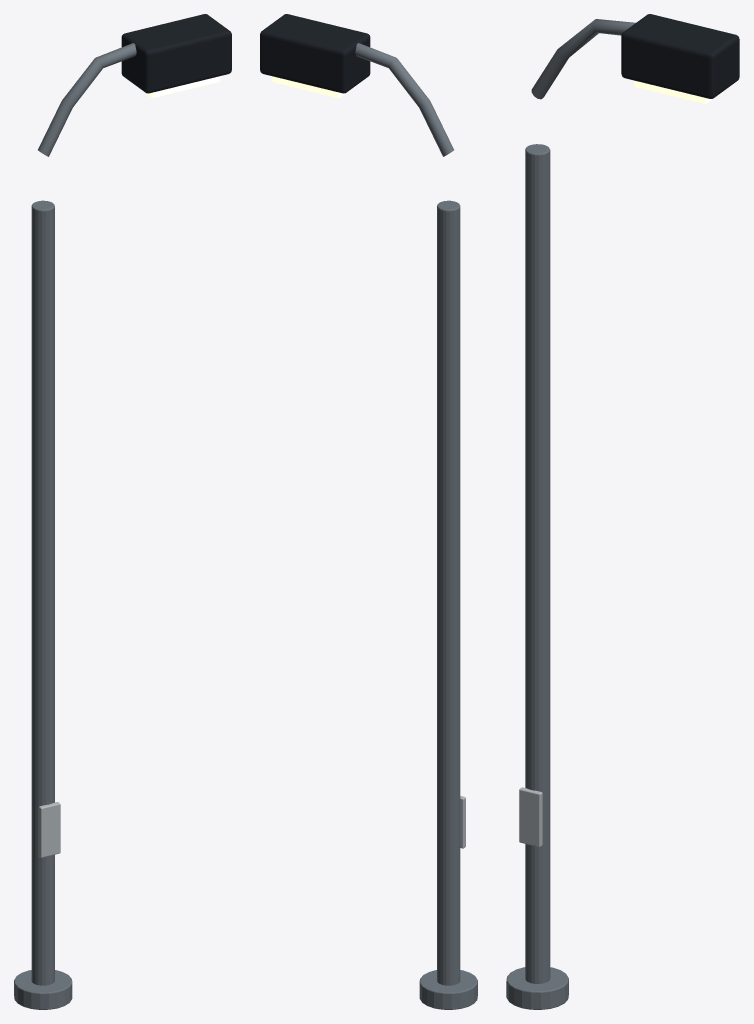
The model's file is prop_starline_streetlight_gold_a_v01.glb.
3 renders of one model, left to right at view 1: azimuth 30°, elevation 25°; view 2: azimuth 150°, elevation 25°; view 3: azimuth 330°, elevation 25°, orthographic. The views are drawn at different scales.
Visible parts, largest first — view 1: component__pole__pole, component__luminaire_housing__luminaire_housing, component__support_arm__support_arm, component__base_flange__base_flange, component__maintenance_access__maintenance_access; view 2: component__pole__pole, component__luminaire_housing__luminaire_housing, component__support_arm__support_arm, component__base_flange__base_flange; view 3: component__pole__pole, component__luminaire_housing__luminaire_housing, component__base_flange__base_flange, component__support_arm__support_arm, component__maintenance_access__maintenance_access, component__lens__lens.
Boxes of the visible parts, <box> form: component__pole__pole: <box>31,200,54,985</box>; component__luminaire_housing__luminaire_housing: <box>121,14,231,93</box>; component__support_arm__support_arm: <box>38,43,136,156</box>; component__base_flange__base_flange: <box>14,970,72,1009</box>; component__maintenance_access__maintenance_access: <box>38,802,60,857</box>; component__pole__pole: <box>437,200,460,985</box>; component__luminaire_housing__luminaire_housing: <box>260,14,370,93</box>; component__support_arm__support_arm: <box>355,43,453,156</box>; component__base_flange__base_flange: <box>419,970,477,1009</box>; component__pole__pole: <box>525,144,550,983</box>; component__luminaire_housing__luminaire_housing: <box>621,14,739,98</box>; component__base_flange__base_flange: <box>506,967,568,1009</box>; component__support_arm__support_arm: <box>531,19,635,99</box>; component__maintenance_access__maintenance_access: <box>519,787,542,847</box>; component__lens__lens: <box>634,80,726,103</box>.
Size of the model in its own units: 1.43 by 6.32 by 0.36.
